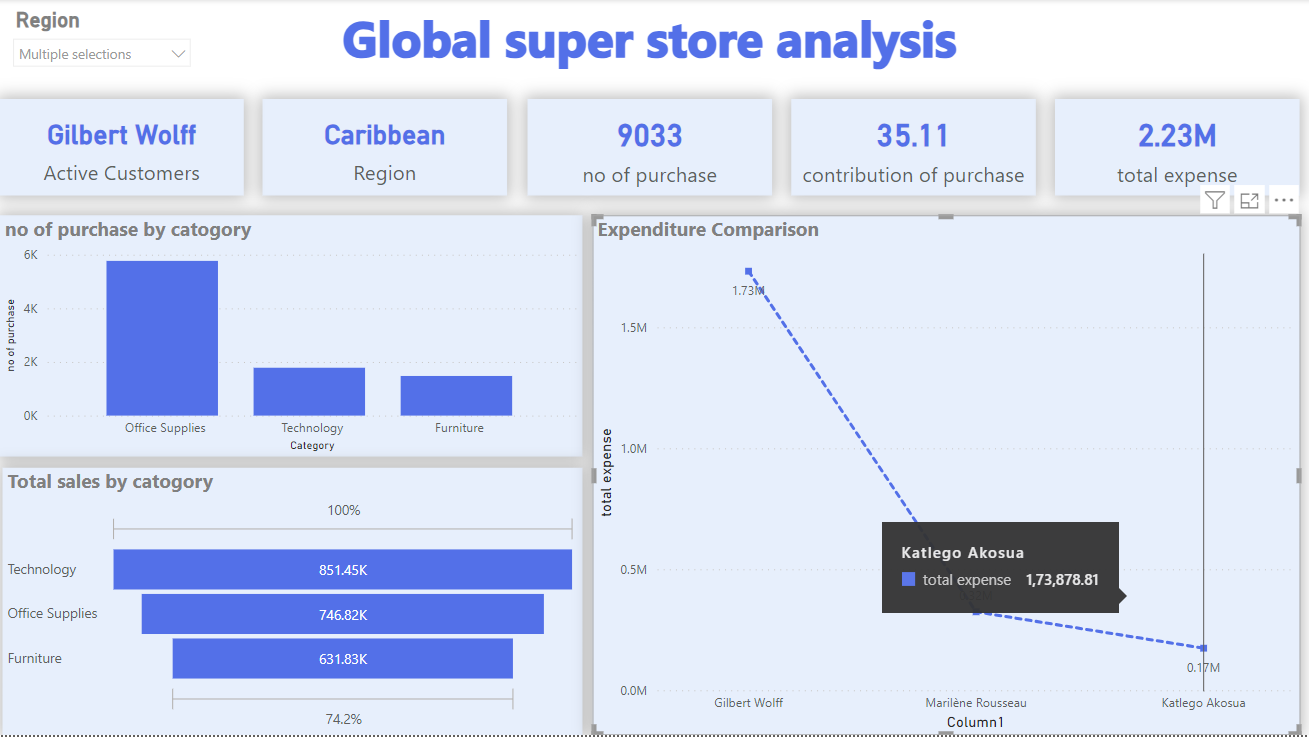

This screenshot's page, from the dashboard's own definition file:
{"tool":"powerbi","page":{"name":"PEOPLES","canvas":[1280,720],"ordinal":2},"visuals":[{"type":"textbox","box":[330.1,0,619.8,81.9],"z":0},{"type":"card","fields":{"Values":["Min(People.Column2)"]},"box":[257,97.8,239.6,94.1],"z":1000},{"type":"slicer","fields":{"Values":["People.Column1"]},"box":[2.4,3.7,194.4,74.6],"z":2000},{"type":"card","fields":{"Values":["People.no of purchase"]},"box":[515.2,97.8,239.6,94.1],"z":3000},{"type":"card","fields":{"Values":["People.contribution of purchase"]},"box":[773.5,97.8,239.6,94.1],"z":4000},{"type":"card","fields":{"Values":["People.total expense"]},"box":[1031.7,97.8,239.6,94.1],"z":5000},{"type":"lineClusteredColumnComboChart","title":"no of purchase by catogory","fields":{"Category":["Orders.Category"],"Y":["People.no of purchase"]},"box":[0,211.5,569.6,235.9],"z":6000},{"type":"funnel","title":"Total sales by catogory","fields":{"Category":["Orders.Category"],"Y":["People.total expense"]},"box":[2.4,458.4,567.2,261.6],"z":7000},{"type":"card","fields":{"Values":["People.Active Customers"]},"box":[0,97.8,238.4,94.1],"z":8000},{"type":"lineChart","title":"Expenditure Comparison","fields":{"Category":["People.Column1"],"Y":["People.total expense"]},"box":[579.4,211.5,691.9,508.5],"z":9000}]}

Visuals, with their boxes in screenshot pixels (x1, y1, x2, y2), scaled from the page's 1280x720 canvas onto the 1309x738 screenshot:
textbox: box(338, 0, 971, 84)
card - Min(People.Column2): box(263, 100, 508, 197)
slicer - People.Column1: box(2, 4, 201, 80)
card - People.no of purchase: box(527, 100, 772, 197)
card - People.contribution of purchase: box(791, 100, 1036, 197)
card - People.total expense: box(1055, 100, 1300, 197)
"no of purchase by catogory" lineClusteredColumnComboChart: box(0, 217, 583, 459)
"Total sales by catogory" funnel: box(2, 470, 583, 737)
card - People.Active Customers: box(0, 100, 244, 197)
"Expenditure Comparison" lineChart: box(593, 217, 1300, 737)
